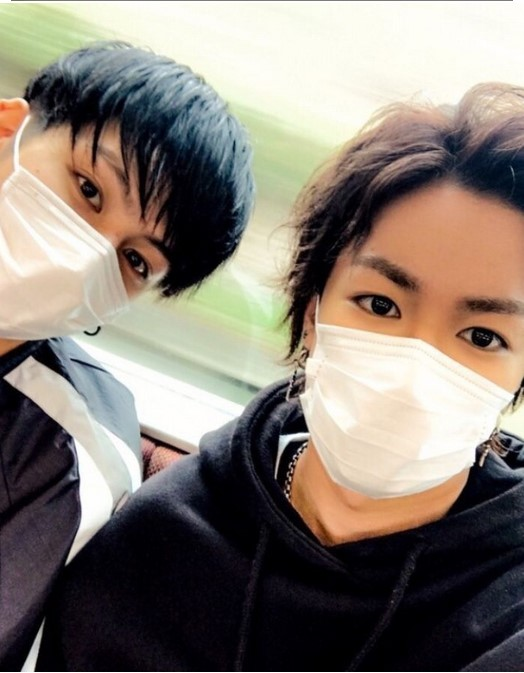face_with_mask: (287, 119, 520, 499), (1, 41, 251, 343)
